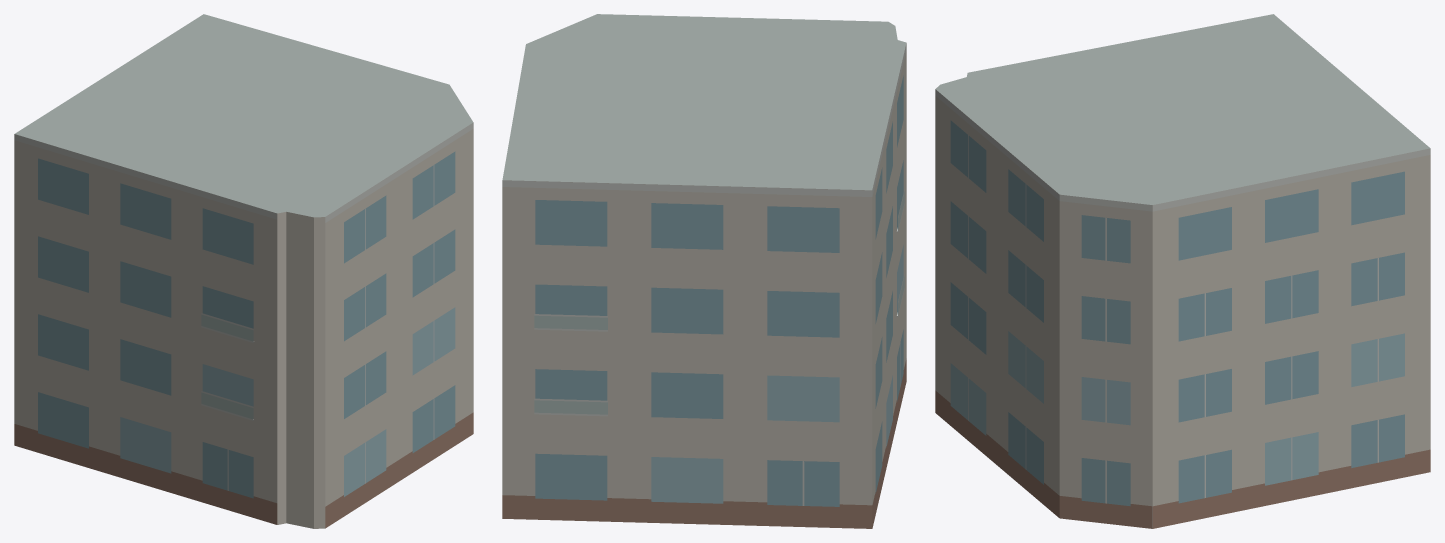
The model's file is survey-upis-32738338.glb.
The picture shows the model from 3 angles, left to right: view 1: azimuth 30°, elevation 25°; view 2: azimuth 150°, elevation 25°; view 3: azimuth 270°, elevation 25°; orthographic projection. The views are drawn at different scales.
Parts seen in each view (by area): view 1: survey-upis-32738338.tmp; view 2: survey-upis-32738338.tmp; view 3: survey-upis-32738338.tmp.
Boxes of the visible parts, x1,y1,x2,y2 form: survey-upis-32738338.tmp: (14, 14, 473, 528); survey-upis-32738338.tmp: (502, 14, 906, 528); survey-upis-32738338.tmp: (935, 14, 1430, 528).
Bounding box in the file's own units: 15.46 × 12.2 × 16.93.
